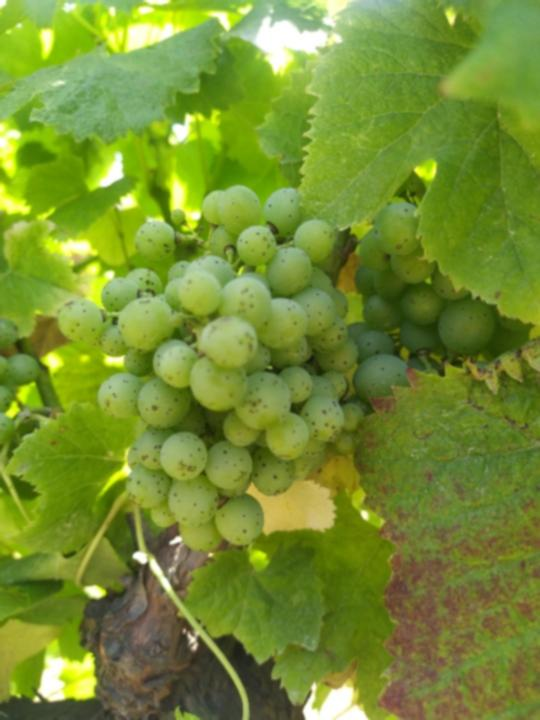grape: (54, 183, 366, 554)
